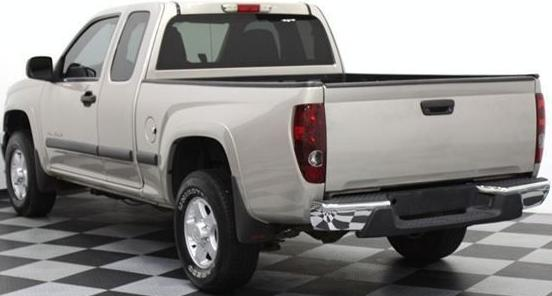back_view: (287, 88, 552, 253)
backlight: (283, 101, 348, 183)
side_glass: (40, 14, 155, 87)
